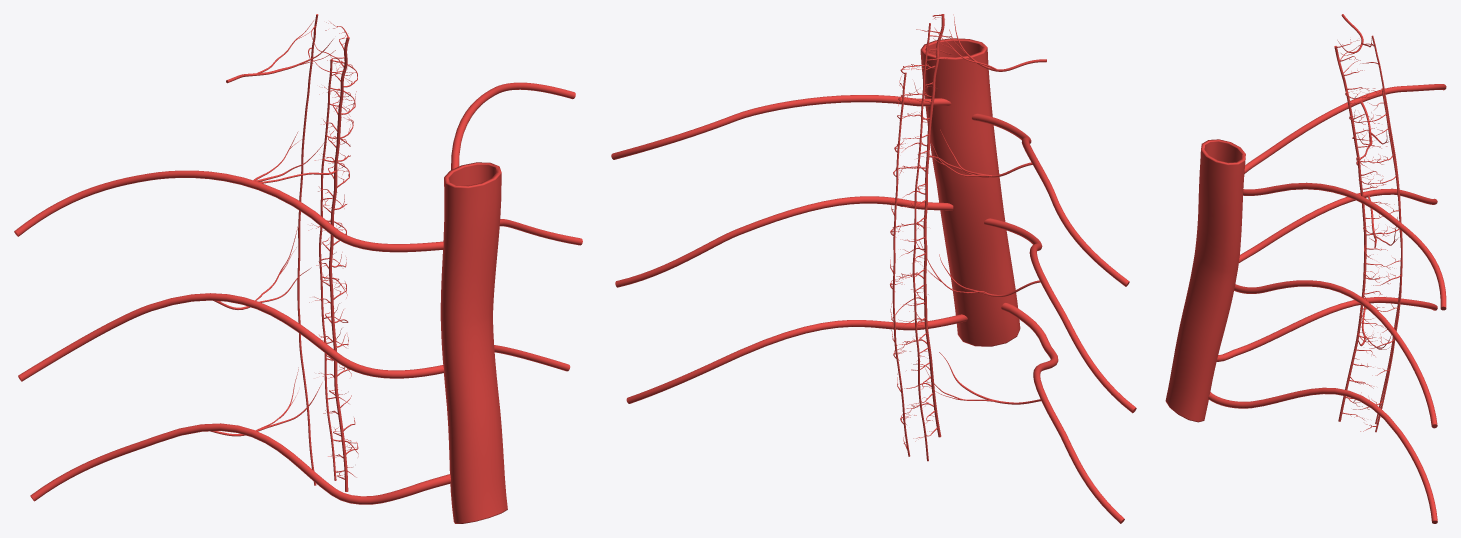
File: open3d-spinal-cord-arterial-01.glb
The picture shows the model from 3 angles, left to right: view 1: azimuth 30°, elevation 25°; view 2: azimuth 150°, elevation 25°; view 3: azimuth 270°, elevation 25°; orthographic projection. The views are drawn at different scales.
Parts seen in each view (by area): view 1: O3D_fbacac0172524d, O3D_c0e645543386d2, O3D_dcc84ff1c45032, O3D_25d39b617746dd, O3D_cc8111cb883cd5, O3D_0e591fb797f9d3, O3D_c807ee25454bd1; view 2: O3D_fbacac0172524d, O3D_c0e645543386d2, O3D_dcc84ff1c45032, O3D_0e591fb797f9d3, O3D_25d39b617746dd, O3D_cc8111cb883cd5, O3D_c807ee25454bd1; view 3: O3D_fbacac0172524d, O3D_c0e645543386d2, O3D_cc8111cb883cd5, O3D_dcc84ff1c45032, O3D_25d39b617746dd, O3D_c807ee25454bd1, O3D_0e591fb797f9d3.
Boxes of the visible parts, x1=… form: O3D_fbacac0172524d: x1=440, y1=162, x2=507, y2=523; O3D_c0e645543386d2: x1=14, y1=82, x2=582, y2=504; O3D_dcc84ff1c45032: x1=297, y1=14, x2=336, y2=485; O3D_25d39b617746dd: x1=329, y1=36, x2=349, y2=491; O3D_cc8111cb883cd5: x1=308, y1=26, x2=358, y2=477; O3D_0e591fb797f9d3: x1=210, y1=20, x2=335, y2=436; O3D_c807ee25454bd1: x1=308, y1=21, x2=348, y2=479; O3D_fbacac0172524d: x1=920, y1=38, x2=1020, y2=346; O3D_c0e645543386d2: x1=611, y1=95, x2=1136, y2=523; O3D_dcc84ff1c45032: x1=892, y1=23, x2=930, y2=461; O3D_0e591fb797f9d3: x1=918, y1=14, x2=1046, y2=404; O3D_25d39b617746dd: x1=923, y1=14, x2=944, y2=437; O3D_cc8111cb883cd5: x1=890, y1=35, x2=952, y2=449; O3D_c807ee25454bd1: x1=899, y1=14, x2=942, y2=441; O3D_fbacac0172524d: x1=1165, y1=139, x2=1245, y2=422; O3D_c0e645543386d2: x1=1208, y1=84, x2=1446, y2=523; O3D_cc8111cb883cd5: x1=1340, y1=43, x2=1401, y2=431; O3D_dcc84ff1c45032: x1=1371, y1=35, x2=1402, y2=432; O3D_25d39b617746dd: x1=1334, y1=46, x2=1366, y2=421; O3D_c807ee25454bd1: x1=1336, y1=39, x2=1394, y2=420; O3D_0e591fb797f9d3: x1=1337, y1=14, x2=1398, y2=349.
Size of the model in its own units: 1.15 by 0.9262 by 0.6077.
